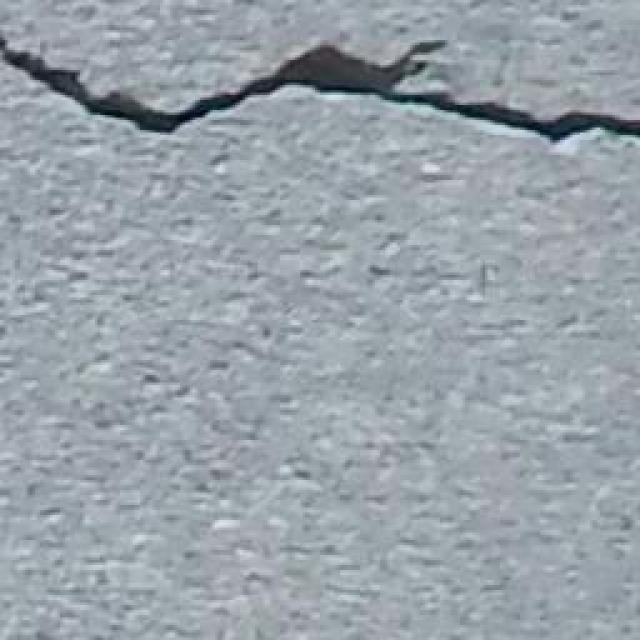concrete-crack: (0, 35, 640, 147)
